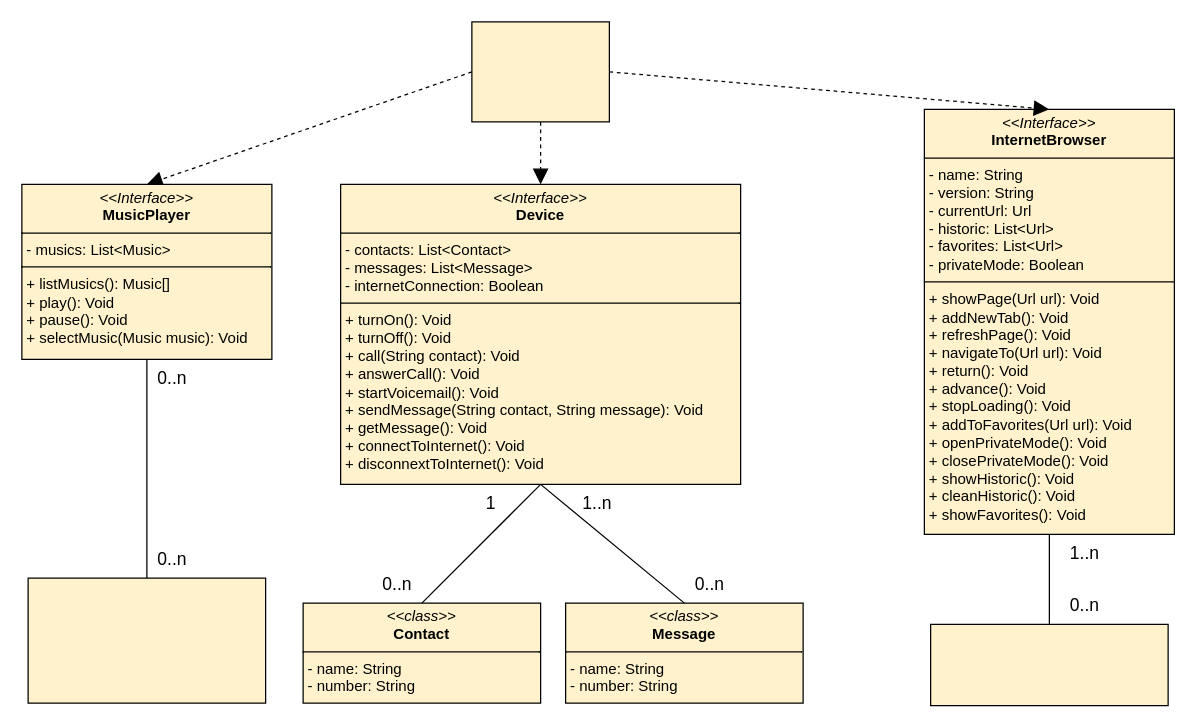
This 1196x728 diagram has some shape labels left out. Here are the shapes that lost their labels. From the top down, the centre of each, then its label:
pixel 540 71: <<class>> Iphone
pixel 146 640: <<class>> Music - name: String - artist: String - releaseYear: Int
pixel 1048 664: <<class>> Url - address: String
